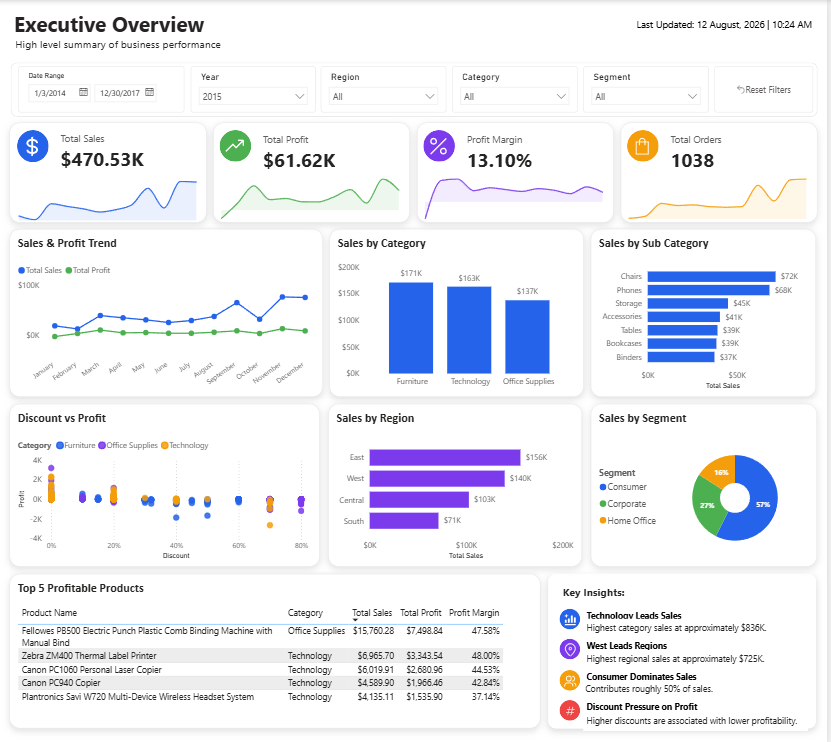

The page's visual inventory and layout, read from the dashboard file:
{"tool":"powerbi","page":{"name":"Executive Overview","canvas":[1280,1150],"ordinal":0},"visuals":[{"type":"shape","box":[19,188,304,154],"z":0,"group":"g2"},{"type":"shape","box":[333,188,303,154],"z":0,"group":"g4"},{"type":"shape","box":[647,188,303,154],"z":0,"group":"g5"},{"type":"shape","box":[961,188,303,154],"z":0,"group":"g6"},{"type":"lineChart","title":"Sales & Profit Trend","fields":{"Category":["Calendar.Month"],"Y":["Superstore.Total Sales","Superstore.Total Profit"]},"box":[19,353,483,259],"z":0},{"type":"cardVisual","fields":{"Data":["Superstore.Total Sales"]},"box":[80,197,208,69],"z":1000,"group":"g2"},{"type":"cardVisual","fields":{"Data":["Superstore.Total Profit"]},"box":[393,199,207.9,69],"z":1000,"group":"g4"},{"type":"cardVisual","fields":{"Data":["Superstore.Profit Margin"]},"box":[707,199,207.9,69],"z":1000,"group":"g5"},{"type":"cardVisual","fields":{"Data":["Superstore.Total Orders"]},"box":[1021,199,207.9,69],"z":1000,"group":"g6"},{"type":"columnChart","title":"Sales by Category","fields":{"Y":["Superstore.Total Sales"],"Category":["Superstore.Category"]},"box":[512,353,392,259],"z":1000},{"type":"areaChart","fields":{"Category":["Calendar.Month"],"Y":["Superstore.Total Profit"]},"box":[332,261.3,303,80.7],"z":2000,"group":"g4"},{"type":"areaChart","fields":{"Category":["Calendar.Month"],"Y":["Superstore.Profit Margin"]},"box":[646,261.3,303,80.7],"z":2000,"group":"g5"},{"type":"areaChart","fields":{"Category":["Calendar.Month"],"Y":["Superstore.Total Orders"]},"box":[960,261.3,303,80.7],"z":2000,"group":"g6"},{"type":"areaChart","fields":{"Y":["Superstore.Total Sales"],"Category":["Calendar.Month"]},"box":[19,265,303,79],"z":2000,"group":"g2"},{"type":"clusteredBarChart","title":"Sales by Sub Category","fields":{"Y":["Superstore.Total Sales"],"Category":["Superstore.Sub-Category"]},"box":[916,353,347,259],"z":2000},{"type":"scatterChart","title":"Discount vs Profit","fields":{"X":["Superstore.Discount"],"Y":["Superstore.Profit"],"Series":["Superstore.Category"]},"box":[18.6,622.9,478.6,251.4],"z":3000},{"type":"clusteredBarChart","title":"Sales by Region","fields":{"Y":["Superstore.Total Sales"],"Category":["Superstore.Region"]},"box":[511.4,622.9,391.4,251.4],"z":4000},{"type":"donutChart","title":"Sales by Segment","fields":{"Y":["Superstore.Total Sales"],"Category":["Superstore.Segment"]},"box":[915.7,622.9,348.6,251.4],"z":5000},{"type":"tableEx","title":"Top 5 Profitable Products","fields":{"Values":["Superstore.Product Name","Superstore.Category","Superstore.Total Sales","Superstore.Total Profit","Superstore.Profit Margin"]},"box":[18.8,885,818.8,238.8],"z":6000},{"type":"group","id":"g1","title":"Group 2","box":[21,96,1243.7,83.7],"z":7000},{"type":"group","id":"g2","title":"Group 1","box":[19,188,304,156],"z":7000,"group":"g3"},{"type":"shape","box":[21,96,1243.8,83.8],"z":8000,"group":"g1"},{"type":"group","id":"g3","title":"Group 4","box":[19,188,304,156],"z":8000},{"type":"group","id":"g4","title":"Group 4","box":[332,188,304,154],"z":9000},{"type":"shape","box":[344.4,199,49,49],"z":9000,"group":"g7"},{"type":"shape","box":[658.4,199,49,49],"z":9000,"group":"g8"},{"type":"shape","box":[972.4,199,49,49],"z":9000,"group":"g9"},{"type":"shape","box":[31,199.8,49,49.8],"z":9000,"group":"g10"},{"type":"shape","box":[868.1,937.7,31.9,31.9],"z":9000,"group":"g11"},{"type":"shape","box":[868.1,985.1,31.9,31.9],"z":9000,"group":"g12"},{"type":"shape","box":[868.1,1032.5,31.9,31.9],"z":9000,"group":"g13"},{"type":"shape","box":[868.1,1080,31.9,31.9],"z":9000,"group":"g14"},{"type":"textbox","box":[22,10,329,59],"z":10000},{"type":"slicer","fields":{"Values":["Calendar.Year"]},"box":[298.2,102.1,193,71],"z":10000,"group":"g1"},{"type":"textbox","box":[23,52,340.9,33.6],"z":11000},{"type":"slicer","fields":{"Values":["Superstore.Region"]},"box":[499.6,102.5,193.3,71.3],"z":11000,"group":"g1"},{"type":"textbox","box":[981,23,281,34],"z":12000},{"type":"slicer","fields":{"Values":["Superstore.Category"]},"box":[701.6,102.5,193.3,71.3],"z":12000,"group":"g1"},{"type":"slicer","fields":{"Values":["Superstore.Segment"]},"box":[903.6,102.5,193.3,71.3],"z":13000,"group":"g1"},{"type":"group","id":"g5","title":"Group 4","box":[646,188,304,154],"z":13000},{"type":"slicer","fields":{"Values":["Calendar.Date"]},"box":[33.2,102.1,256,71],"z":14000,"group":"g1"},{"type":"group","id":"g6","title":"Group 4","box":[960,188,304,154],"z":14000},{"type":"actionButton","box":[1104.9,102.5,152,71.3],"z":15000,"group":"g1"},{"type":"shape","box":[849.8,885,412.5,238.8],"z":15000},{"type":"image","box":[348.9,206.9,39.3,34.8],"z":15002,"group":"g7"},{"type":"image","box":[662.9,206.9,39.3,34.8],"z":15002,"group":"g8"},{"type":"image","box":[976.9,206.9,39.3,34.8],"z":15002,"group":"g9"},{"type":"image","box":[35.5,207.8,39.3,35.3],"z":15002,"group":"g10"},{"type":"image","box":[915.5,684.9,39.3,6],"z":15002,"group":"g15"},{"type":"image","box":[871,942.8,25.6,22.6],"z":15002,"group":"g11"},{"type":"image","box":[871,990.2,25.6,22.6],"z":15002,"group":"g12"},{"type":"image","box":[871,1037.6,25.6,22.6],"z":15002,"group":"g13"},{"type":"image","box":[871,1085.1,25.6,22.6],"z":15002,"group":"g14"},{"type":"group","id":"g7","title":"Group 3","box":[344.4,199,49,49],"z":15003,"group":"g4"},{"type":"group","id":"g8","title":"Group 3","box":[658.4,199,49,49],"z":15003,"group":"g5"},{"type":"group","id":"g9","title":"Group 3","box":[972.4,199,49,49],"z":15003,"group":"g6"},{"type":"group","id":"g10","title":"Group 3","box":[31,199.8,49,49.8],"z":15003,"group":"g3"},{"type":"textbox","box":[867.8,896,106,34],"z":16000},{"type":"group","id":"g11","title":"Group 3","box":[868.1,937.7,31.7,31.7],"z":16000,"group":"g16"},{"type":"group","id":"g12","title":"Group 3","box":[868.1,985.1,31.7,31.7],"z":16000,"group":"g17"},{"type":"group","id":"g13","title":"Group 3","box":[868.1,1032.5,31.7,31.7],"z":16000,"group":"g18"},{"type":"group","id":"g14","title":"Group 3","box":[868.1,1080,31.7,31.7],"z":16000,"group":"g19"},{"type":"group","id":"g15","title":"Group 3","box":[915.5,684.9,39.3,6],"z":17000},{"type":"group","id":"g16","title":"Group 5","box":[868.1,934.1,381.2,49.9],"z":18000},{"type":"textbox","box":[905.4,934.1,170.9,34.5],"z":18000,"group":"g16"},{"type":"textbox","box":[904.5,981.8,154.5,34.5],"z":18000,"group":"g17"},{"type":"textbox","box":[905.4,1029,188.2,34.5],"z":18000,"group":"g18"},{"type":"textbox","box":[905.4,1075.3,196.4,35.5],"z":18000,"group":"g19"},{"type":"group","id":"g17","title":"Group 5","box":[868.1,981.8,369.6,50.3],"z":19000},{"type":"textbox","box":[904.3,954,345,30],"z":20000,"group":"g16"},{"type":"textbox","box":[903.9,1002.1,333.8,30],"z":20000,"group":"g17"},{"type":"group","id":"g18","title":"Group 5","box":[868.1,1029,385.2,50],"z":20000},{"type":"textbox","box":[903.3,1049,350,30],"z":20000,"group":"g18"},{"type":"textbox","box":[904.3,1096.2,346.2,30],"z":20000,"group":"g19"},{"type":"group","id":"g19","title":"Group 5","box":[868.1,1075.3,382.5,50.9],"z":21000}]}

Visuals, with their boxes in screenshot pixels (x1, y1, x2, y2), scaled from the page's 1280x1150 canvas onto the 831x742 screenshot:
shape: bbox=[12, 121, 210, 221]
shape: bbox=[216, 121, 413, 221]
shape: bbox=[420, 121, 617, 221]
shape: bbox=[624, 121, 821, 221]
"Sales & Profit Trend" lineChart: bbox=[12, 228, 326, 395]
cardVisual - Superstore.Total Sales: bbox=[52, 127, 187, 172]
cardVisual - Superstore.Total Profit: bbox=[255, 128, 390, 173]
cardVisual - Superstore.Profit Margin: bbox=[459, 128, 594, 173]
cardVisual - Superstore.Total Orders: bbox=[663, 128, 798, 173]
"Sales by Category" columnChart: bbox=[332, 228, 587, 395]
areaChart - Calendar.Month x Superstore.Total Profit: bbox=[216, 169, 412, 221]
areaChart - Calendar.Month x Superstore.Profit Margin: bbox=[419, 169, 616, 221]
areaChart - Calendar.Month x Superstore.Total Orders: bbox=[623, 169, 820, 221]
areaChart - Superstore.Total Sales x Calendar.Month: bbox=[12, 171, 209, 222]
"Sales by Sub Category" clusteredBarChart: bbox=[595, 228, 820, 395]
"Discount vs Profit" scatterChart: bbox=[12, 402, 323, 564]
"Sales by Region" clusteredBarChart: bbox=[332, 402, 586, 564]
"Sales by Segment" donutChart: bbox=[594, 402, 821, 564]
"Top 5 Profitable Products" tableEx: bbox=[12, 571, 544, 725]
"Group 2" group: bbox=[14, 62, 821, 116]
"Group 1" group: bbox=[12, 121, 210, 222]
shape: bbox=[14, 62, 821, 116]
"Group 4" group: bbox=[12, 121, 210, 222]
"Group 4" group: bbox=[216, 121, 413, 221]
shape: bbox=[224, 128, 255, 160]
shape: bbox=[427, 128, 459, 160]
shape: bbox=[631, 128, 663, 160]
shape: bbox=[20, 129, 52, 161]
shape: bbox=[564, 605, 584, 626]
shape: bbox=[564, 636, 584, 656]
shape: bbox=[564, 666, 584, 687]
shape: bbox=[564, 697, 584, 717]
textbox: bbox=[14, 6, 228, 45]
slicer - Calendar.Year: bbox=[194, 66, 319, 112]
textbox: bbox=[15, 34, 236, 55]
slicer - Superstore.Region: bbox=[324, 66, 450, 112]
textbox: bbox=[637, 15, 819, 37]
slicer - Superstore.Category: bbox=[455, 66, 581, 112]
slicer - Superstore.Segment: bbox=[587, 66, 712, 112]
"Group 4" group: bbox=[419, 121, 617, 221]
slicer - Calendar.Date: bbox=[22, 66, 188, 112]
"Group 4" group: bbox=[623, 121, 821, 221]
actionButton: bbox=[717, 66, 816, 112]
shape: bbox=[552, 571, 820, 725]
image: bbox=[227, 133, 252, 156]
image: bbox=[430, 133, 456, 156]
image: bbox=[634, 133, 660, 156]
image: bbox=[23, 134, 49, 157]
image: bbox=[594, 442, 620, 446]
image: bbox=[565, 608, 582, 623]
image: bbox=[565, 639, 582, 653]
image: bbox=[565, 669, 582, 684]
image: bbox=[565, 700, 582, 715]
"Group 3" group: bbox=[224, 128, 255, 160]
"Group 3" group: bbox=[427, 128, 459, 160]
"Group 3" group: bbox=[631, 128, 663, 160]
"Group 3" group: bbox=[20, 129, 52, 161]
textbox: bbox=[563, 578, 632, 600]
"Group 3" group: bbox=[564, 605, 584, 625]
"Group 3" group: bbox=[564, 636, 584, 656]
"Group 3" group: bbox=[564, 666, 584, 687]
"Group 3" group: bbox=[564, 697, 584, 717]
"Group 3" group: bbox=[594, 442, 620, 446]
"Group 5" group: bbox=[564, 603, 811, 635]
textbox: bbox=[588, 603, 699, 625]
textbox: bbox=[587, 633, 688, 656]
textbox: bbox=[588, 664, 710, 686]
textbox: bbox=[588, 694, 715, 717]
"Group 5" group: bbox=[564, 633, 804, 666]
textbox: bbox=[587, 616, 811, 635]
textbox: bbox=[587, 647, 804, 666]
"Group 5" group: bbox=[564, 664, 814, 696]
textbox: bbox=[586, 677, 814, 696]
textbox: bbox=[587, 707, 812, 727]
"Group 5" group: bbox=[564, 694, 812, 727]
